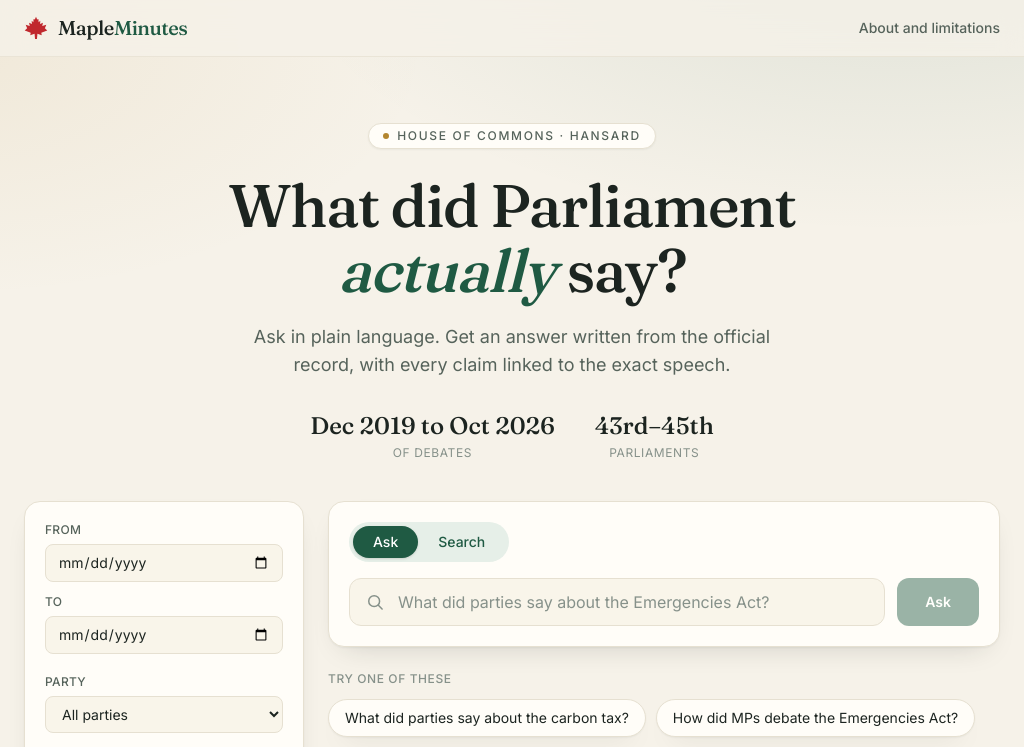
Test: App › does not flash the "writing an answer" message when there is nothing to read
Type "bake bread" into the search field at (617, 602), box [349, 578, 885, 626]
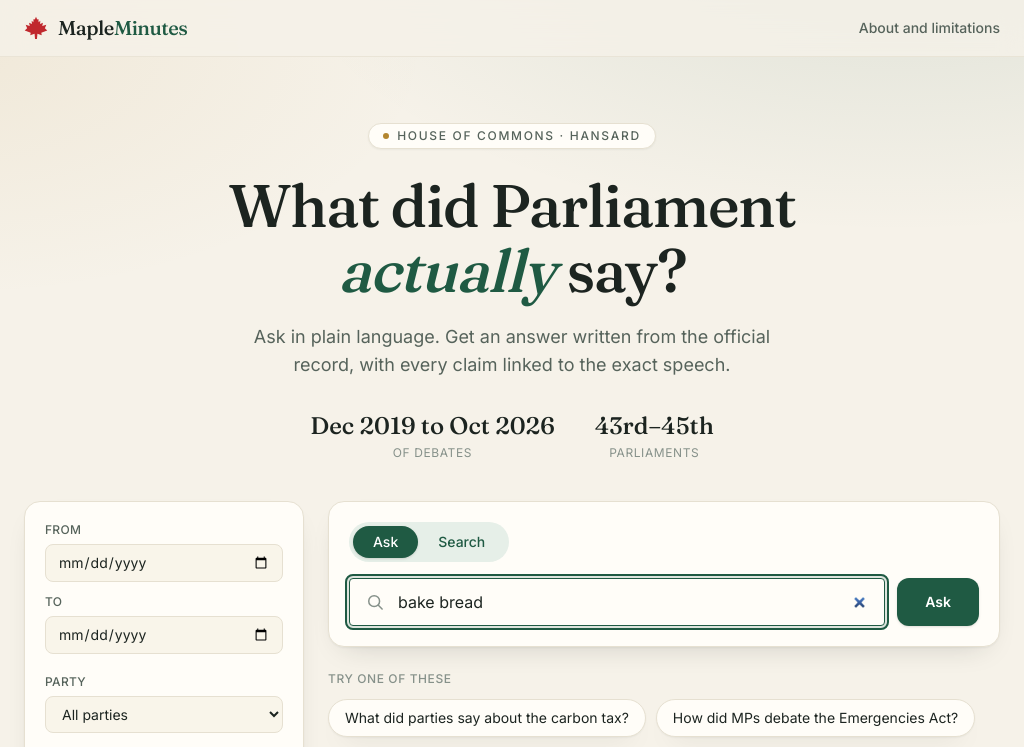
Click the button "Ask" at (938, 602), box [897, 578, 979, 626]
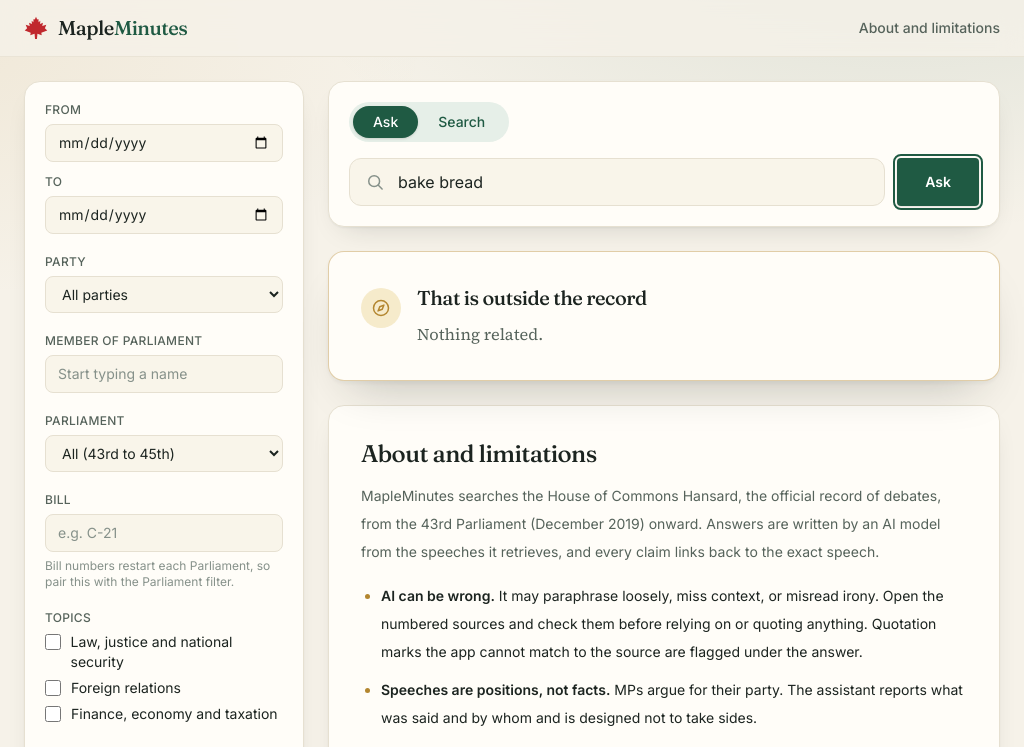
Expected: the element "outside the record" is shown, [328, 251, 1000, 381]
